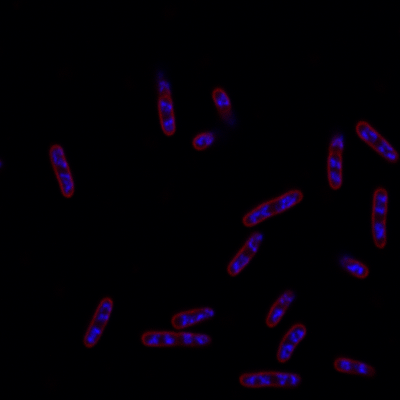Control: (241, 186, 306, 227), (354, 119, 400, 164), (81, 296, 115, 349), (48, 144, 76, 198), (140, 329, 215, 349), (371, 183, 392, 253), (238, 368, 307, 389), (275, 326, 311, 365)
Oblique: (223, 225, 267, 276), (152, 71, 178, 139), (264, 284, 299, 327), (325, 127, 348, 190), (331, 356, 382, 382), (211, 83, 241, 127), (170, 306, 222, 329), (336, 253, 372, 280), (191, 130, 228, 152)
